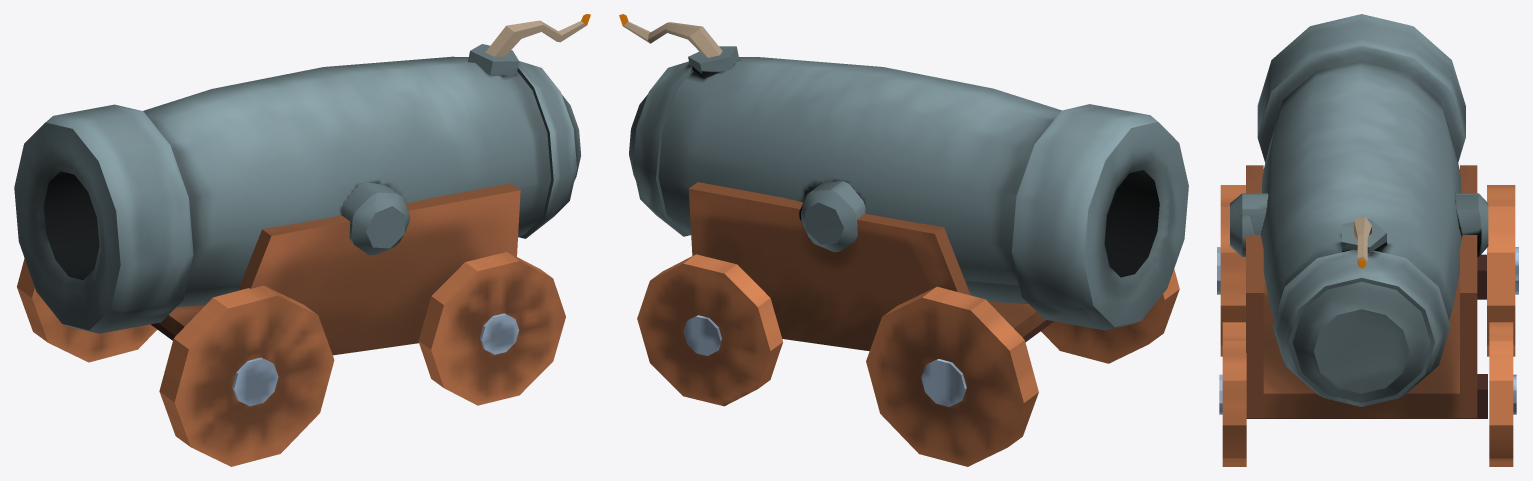
Rendered from Canon.fbx.
3 renders of one model, left to right at view 1: azimuth 30°, elevation 25°; view 2: azimuth 150°, elevation 25°; view 3: azimuth 270°, elevation 25°, orthographic. The views are drawn at different scales.
Visible parts, largest first — view 1: Cylinder; view 2: Cylinder; view 3: Cylinder.
Part boxes in pixels (x1=…): Cylinder: x1=14, y1=14, x2=590, y2=466; Cylinder: x1=619, y1=14, x2=1188, y2=466; Cylinder: x1=1217, y1=14, x2=1518, y2=466.
Size of the model in its own units: 264 by 147 by 140.
